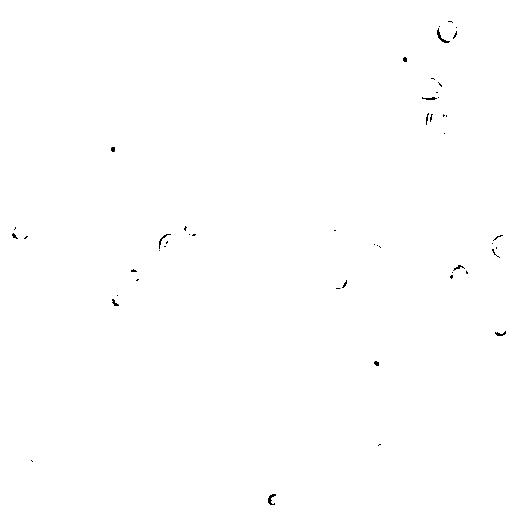micro-algae: (180, 81, 325, 214), (195, 103, 280, 193), (235, 57, 299, 122), (81, 253, 133, 303), (75, 131, 115, 171), (180, 471, 215, 507), (387, 280, 420, 315), (303, 479, 336, 511), (425, 105, 458, 137), (145, 249, 177, 279), (154, 233, 185, 260), (391, 43, 419, 71), (144, 343, 171, 371), (415, 74, 444, 100), (101, 132, 127, 160), (488, 230, 511, 261), (331, 289, 355, 318), (365, 349, 390, 375), (9, 449, 36, 473), (123, 341, 147, 365), (170, 93, 192, 118), (437, 21, 461, 43), (450, 263, 471, 288), (498, 265, 512, 302), (139, 442, 163, 463), (36, 1, 57, 23), (327, 271, 349, 291), (331, 345, 353, 365), (9, 223, 31, 242), (371, 442, 393, 461), (131, 219, 151, 239), (263, 489, 284, 507), (489, 319, 509, 337), (323, 228, 343, 245), (182, 221, 203, 237), (363, 243, 384, 259), (108, 291, 126, 308), (147, 321, 164, 339), (125, 268, 143, 284), (318, 245, 334, 261), (498, 486, 511, 505), (15, 0, 32, 5)
